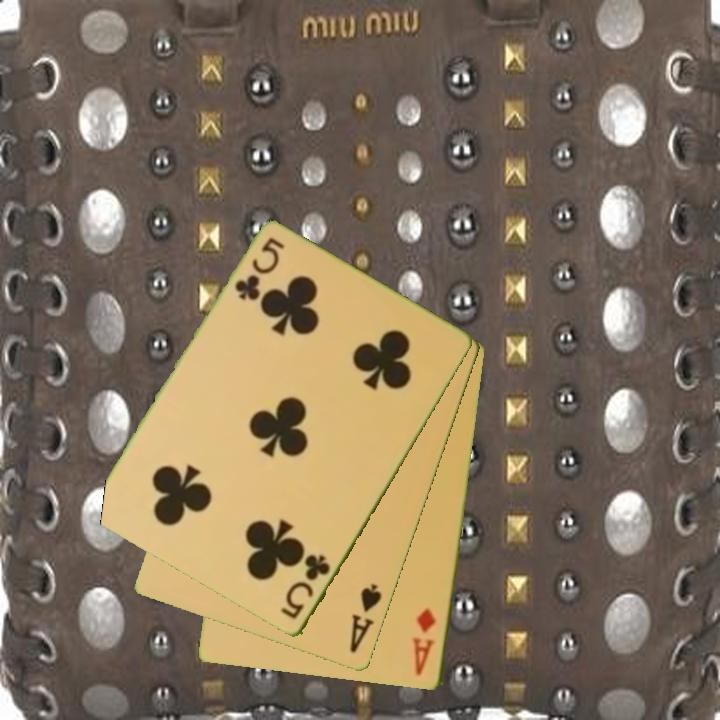5c: (277, 551, 334, 623), (231, 234, 287, 304)
Ad: (410, 605, 439, 679)
As: (346, 581, 385, 657)
